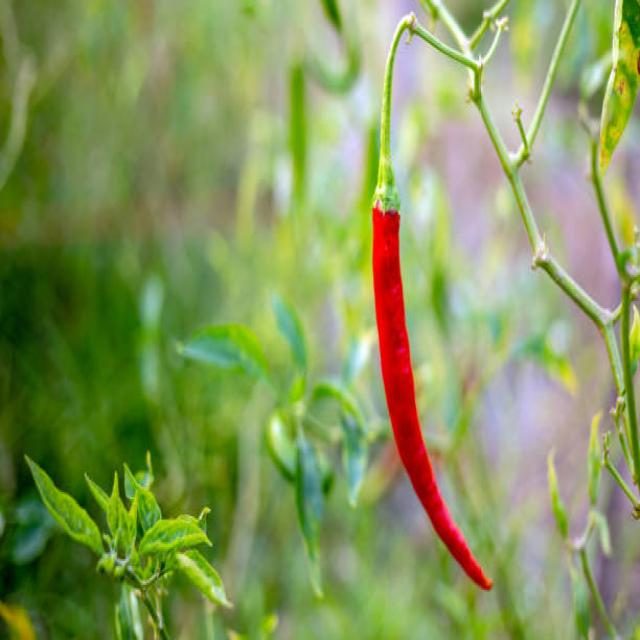Ripe: (372, 204, 492, 589)
